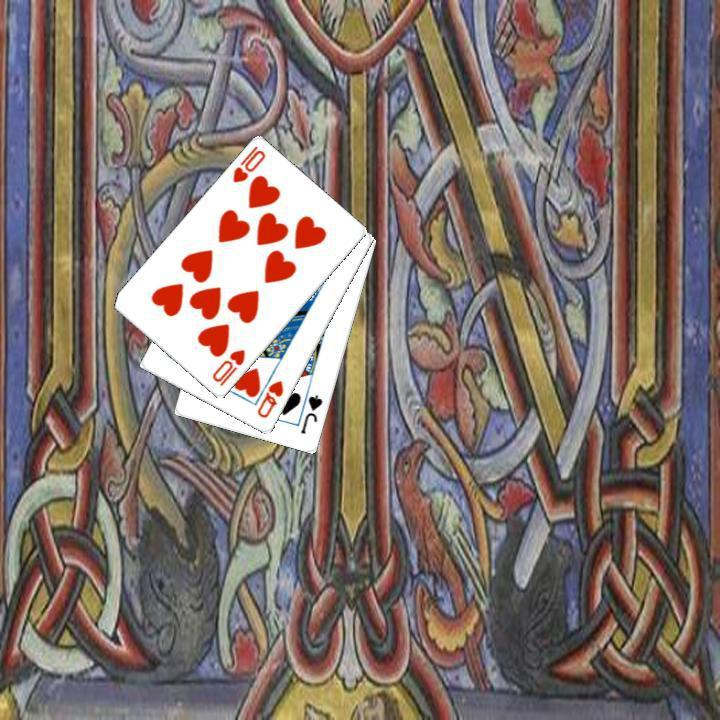10: (228, 142, 268, 185), (208, 345, 247, 389)
J: (296, 391, 325, 436)
Q: (253, 376, 286, 421)
